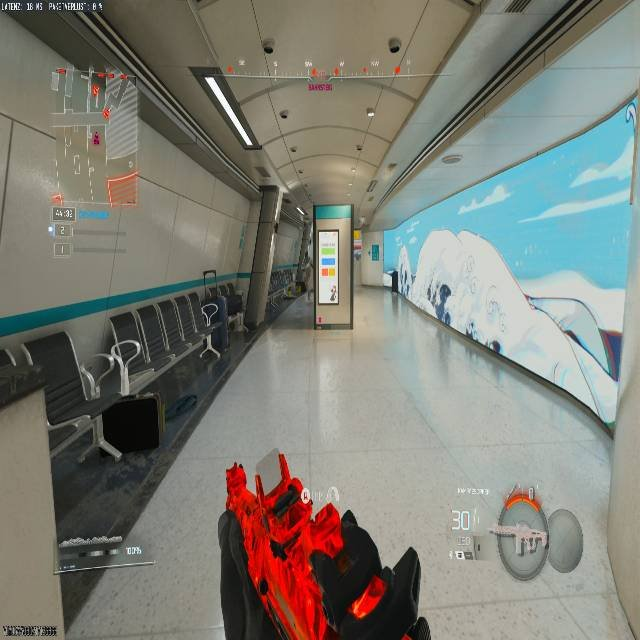player: (199, 286, 242, 357)
